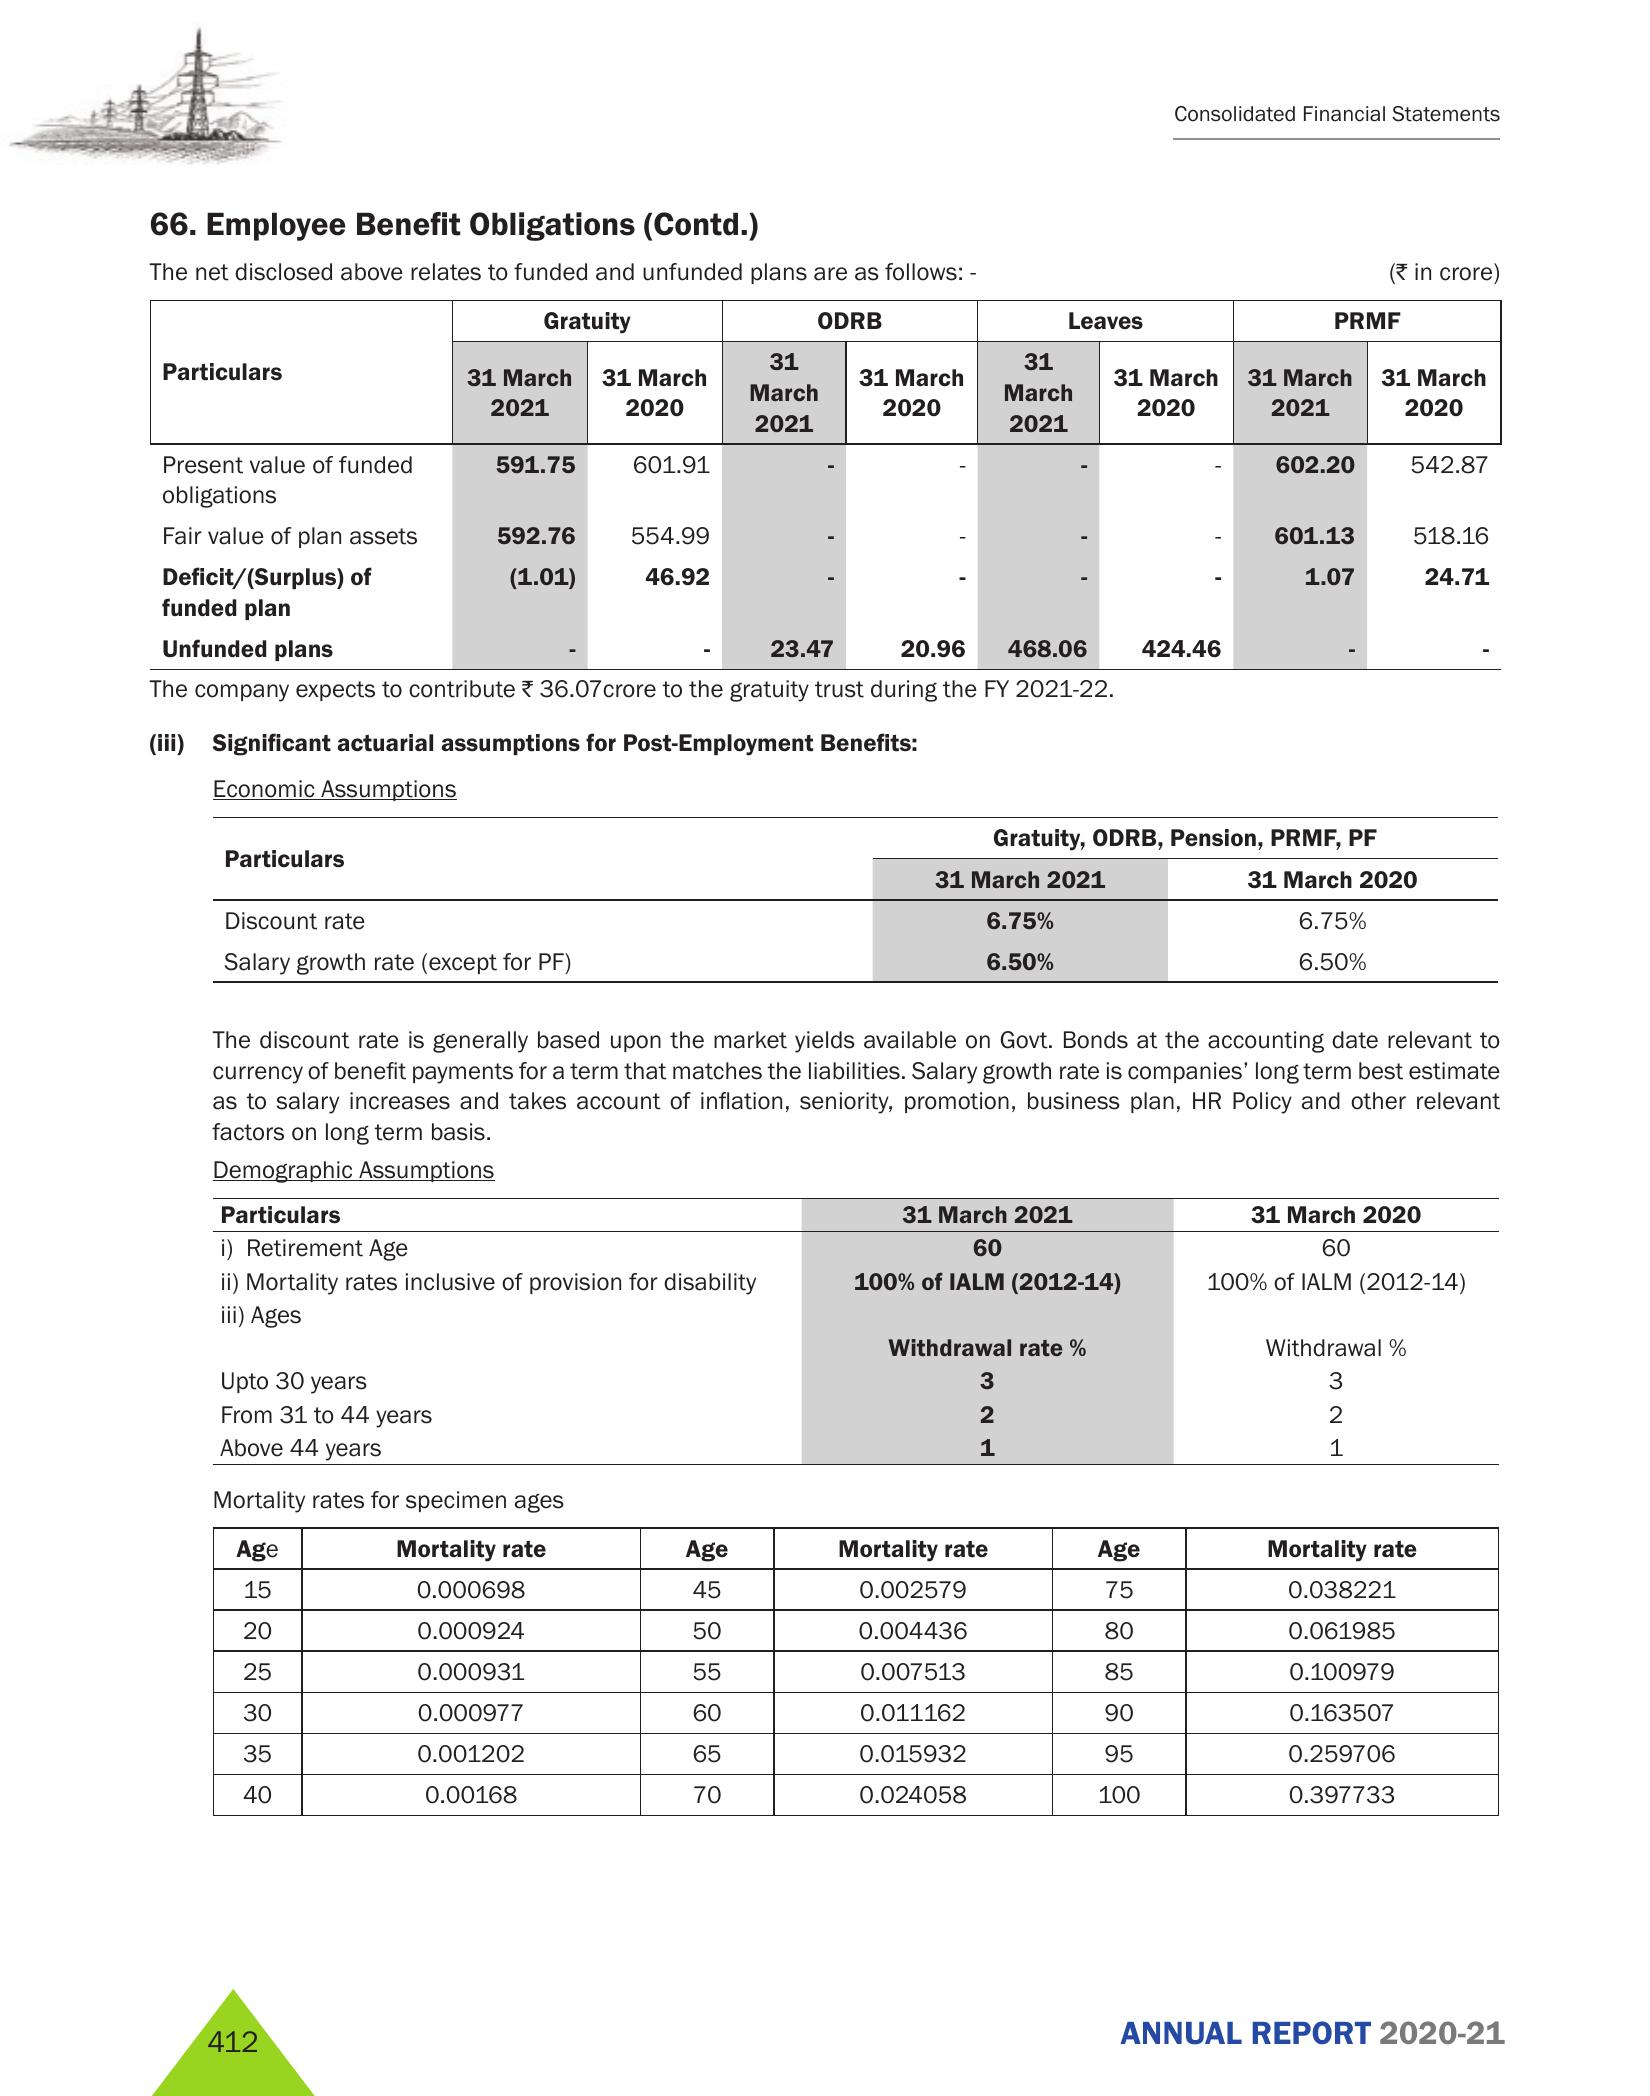Footer: (0, 1953, 1650, 2096)
Header: (0, 0, 1650, 172)
Table: (146, 286, 1507, 670), (208, 1524, 1533, 1831), (201, 1193, 1524, 1467), (189, 813, 1516, 985)
